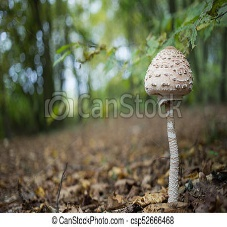mushroom: (146, 45, 197, 203)
